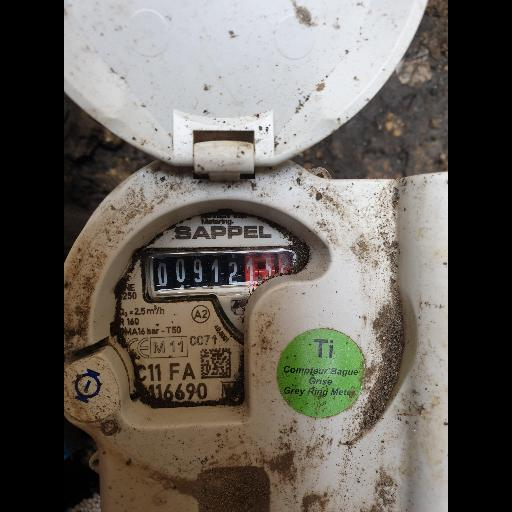0: (153, 258, 170, 291), (173, 257, 190, 289)
1: (207, 255, 226, 288), (244, 251, 259, 287)
2: (225, 252, 243, 287), (277, 251, 292, 276)
5: (261, 252, 276, 281)
9: (191, 256, 208, 289)
border_water_meter_number: (145, 245, 299, 299)
